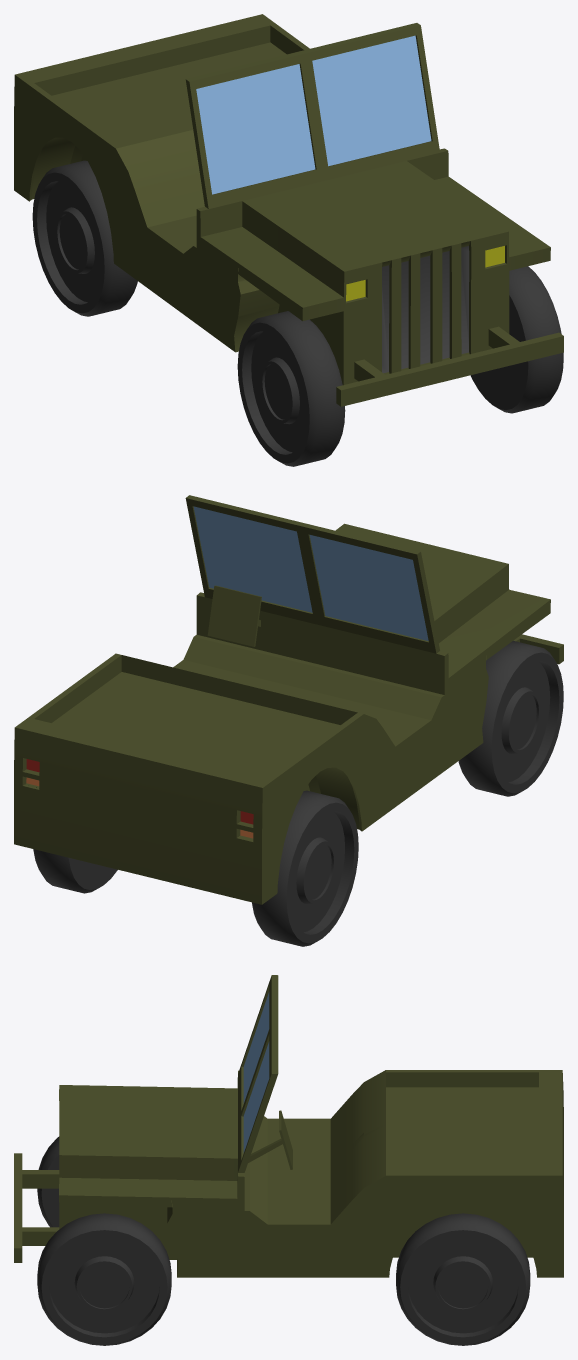
File: 1_4 tonne truck.fbx
3 views of the same model, one above another, from view 1: azimuth 30°, elevation 25°; view 2: azimuth 150°, elevation 25°; view 3: azimuth 270°, elevation 25° (orthographic). The views are drawn at different scales.
Visible parts, largest first — view 1: Cube, Cylinder.003, Cylinder; view 2: Cube, Cylinder, Cylinder.003; view 3: Cube, Cylinder.003, Cylinder.
Boxes of the visible parts, x1=… form: Cube: x1=14, y1=14, x2=563, y2=406; Cylinder.003: x1=237, y1=266, x2=563, y2=466; Cylinder: x1=32, y1=160, x2=137, y2=316; Cube: x1=14, y1=495, x2=563, y2=904; Cylinder: x1=33, y1=790, x2=358, y2=946; Cylinder.003: x1=458, y1=640, x2=563, y2=796; Cube: x1=14, y1=975, x2=563, y2=1277; Cylinder.003: x1=37, y1=1136, x2=171, y2=1345; Cylinder: x1=396, y1=1213, x2=530, y2=1345.
Bounding box in the file's own units: 83.83 × 97.18 × 180.
